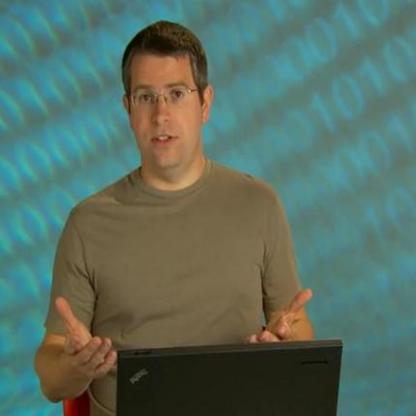board: (116, 339, 343, 415)
